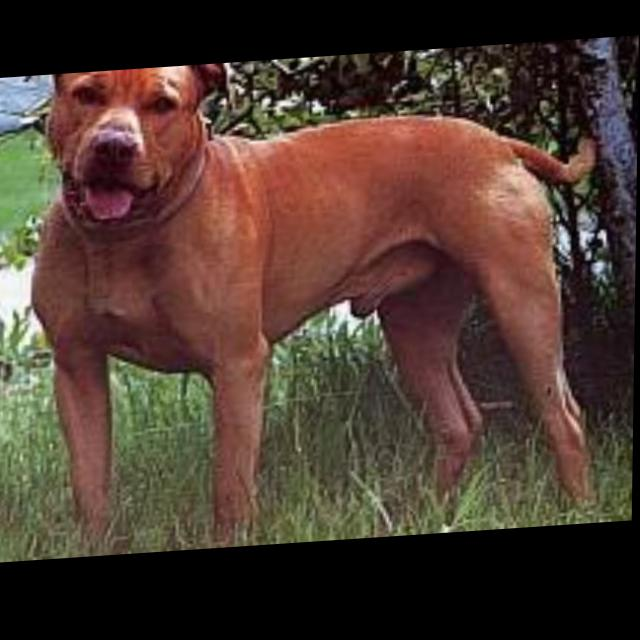staffford: (19, 47, 608, 562)
